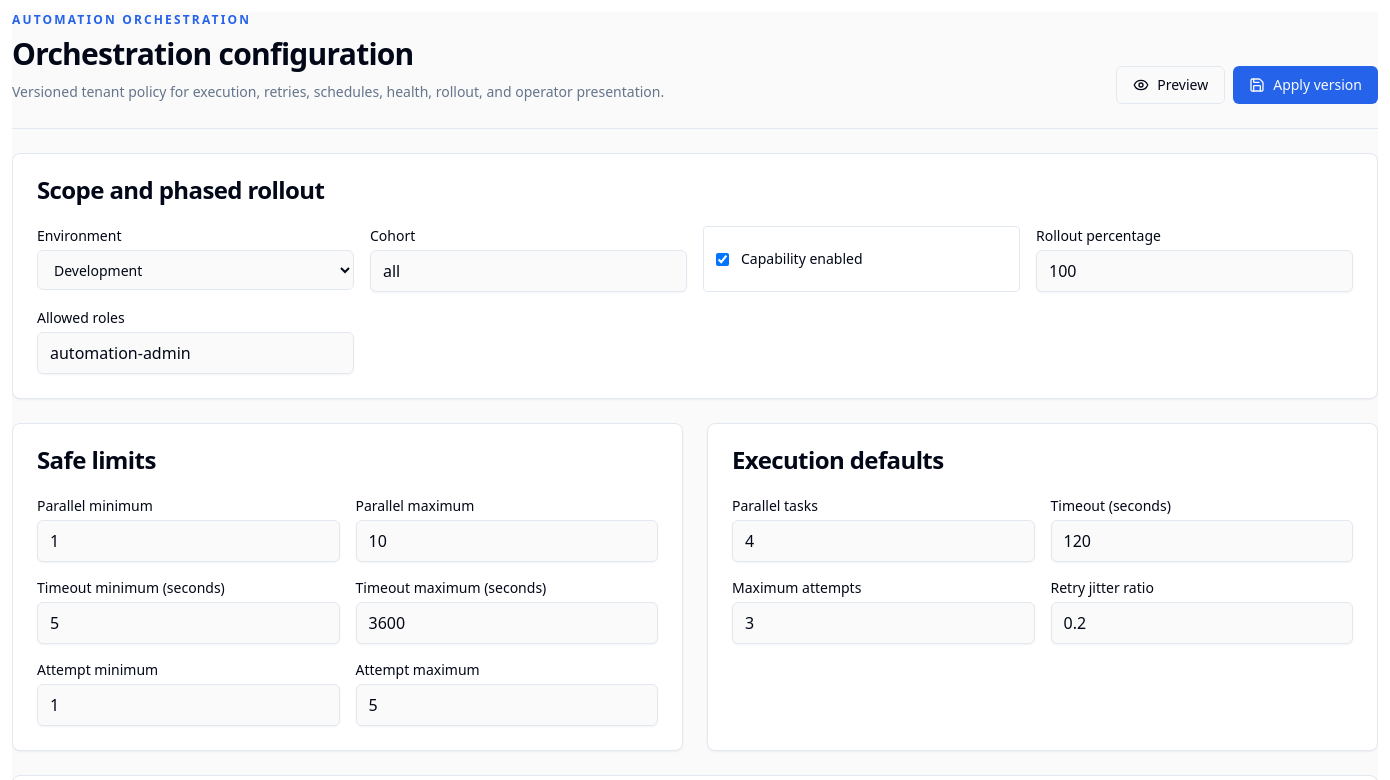
Test: automation orchestration ConfigurationPage › blocks preview and save when guided safe limits are invalid
Replace the text in the number field labelled "Parallel minimum" with "11": (188, 541) [37,520,340,562]
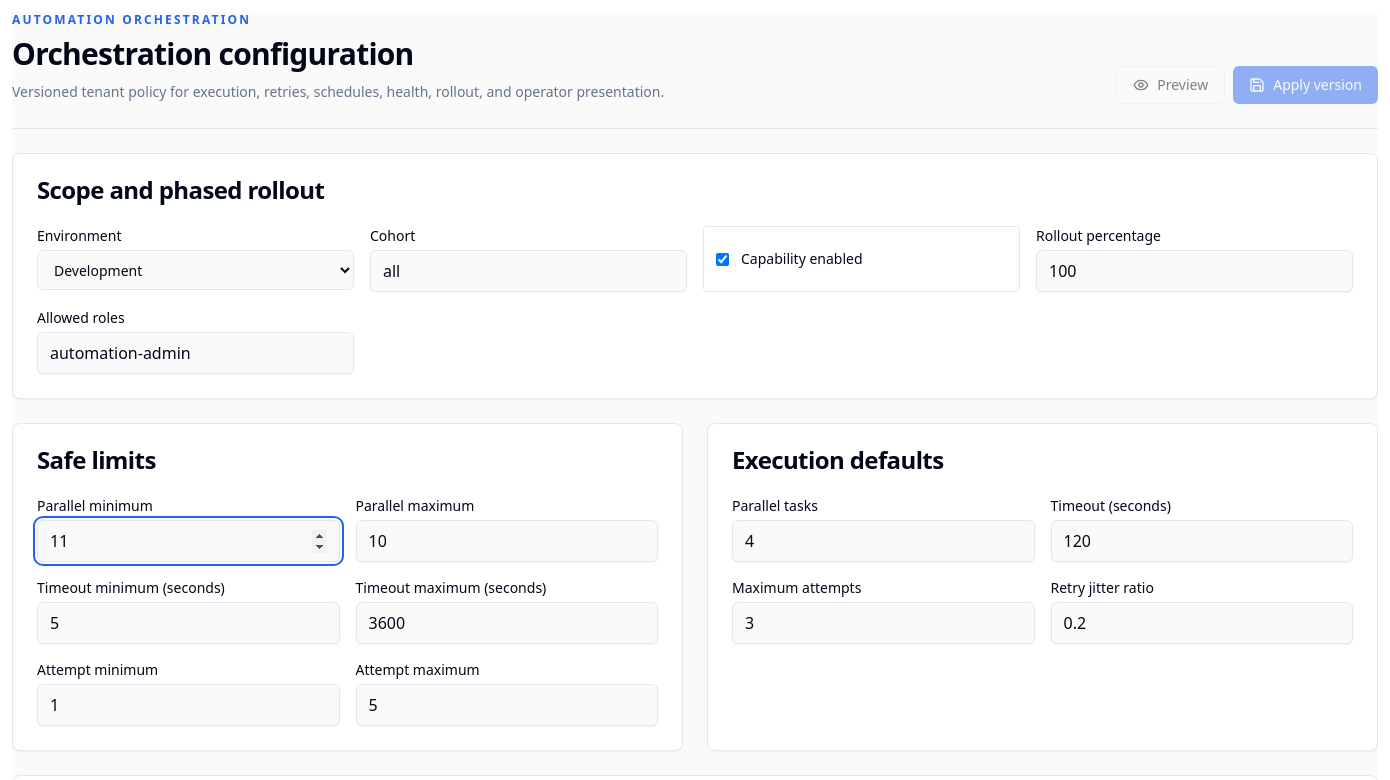
Result: the button "Preview" is disabled at [1116,66,1225,104]
Result: the button "Apply version" is disabled at [1233,66,1378,104]
